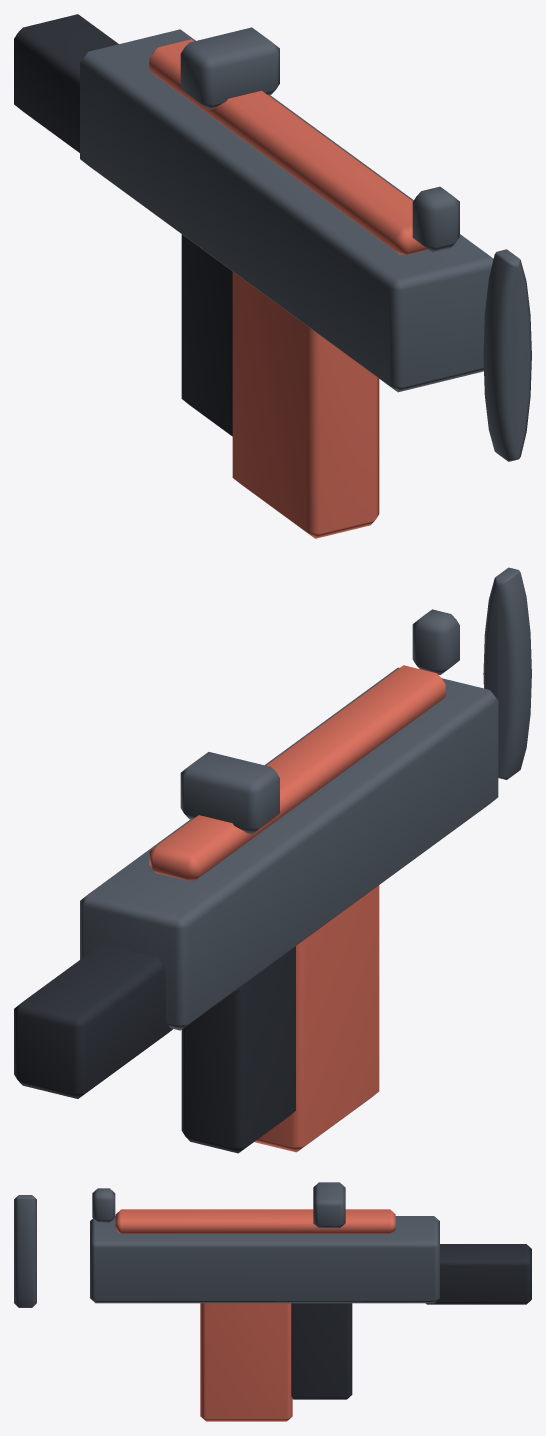
File: Ammo3gun.fbx
The picture shows the model from 3 angles, top to bottom: view 1: azimuth 30°, elevation 25°; view 2: azimuth 150°, elevation 25°; view 3: azimuth 270°, elevation 25°; orthographic projection. The views are drawn at different scales.
Visible parts, largest first — view 1: Receiver, Magazine, TopRail, Grip, Barrel, Stock, SightRear, SightFront; view 2: Receiver, Magazine, Grip, Stock, TopRail, Barrel, SightRear, SightFront; view 3: Receiver, Magazine, TopRail, Grip, Stock, Barrel, SightRear, SightFront.
Boxes of the visible parts, <box> form: Receiver: <box>80,29,493,392</box>; Magazine: <box>232,272,379,538</box>; TopRail: <box>149,39,428,255</box>; Grip: <box>181,234,232,436</box>; Barrel: <box>483,249,531,461</box>; Stock: <box>14,14,118,152</box>; SightRear: <box>180,27,279,109</box>; SightFront: <box>412,186,459,252</box>; Receiver: <box>80,667,498,1030</box>; Magazine: <box>254,885,379,1152</box>; Grip: <box>181,946,295,1153</box>; Stock: <box>14,944,172,1098</box>; TopRail: <box>149,665,445,881</box>; Barrel: <box>483,567,531,779</box>; SightRear: <box>180,752,279,834</box>; SightFront: <box>412,609,459,674</box>; Receiver: <box>90,1216,439,1303</box>; Magazine: <box>200,1303,292,1421</box>; TopRail: <box>115,1209,395,1233</box>; Grip: <box>291,1303,352,1399</box>; Stock: <box>426,1244,531,1304</box>; Barrel: <box>14,1195,36,1307</box>; SightRear: <box>313,1182,345,1228</box>; SightFront: <box>92,1188,115,1222</box>.
Bounding box in the file's own units: 15 × 53.5 × 113.
